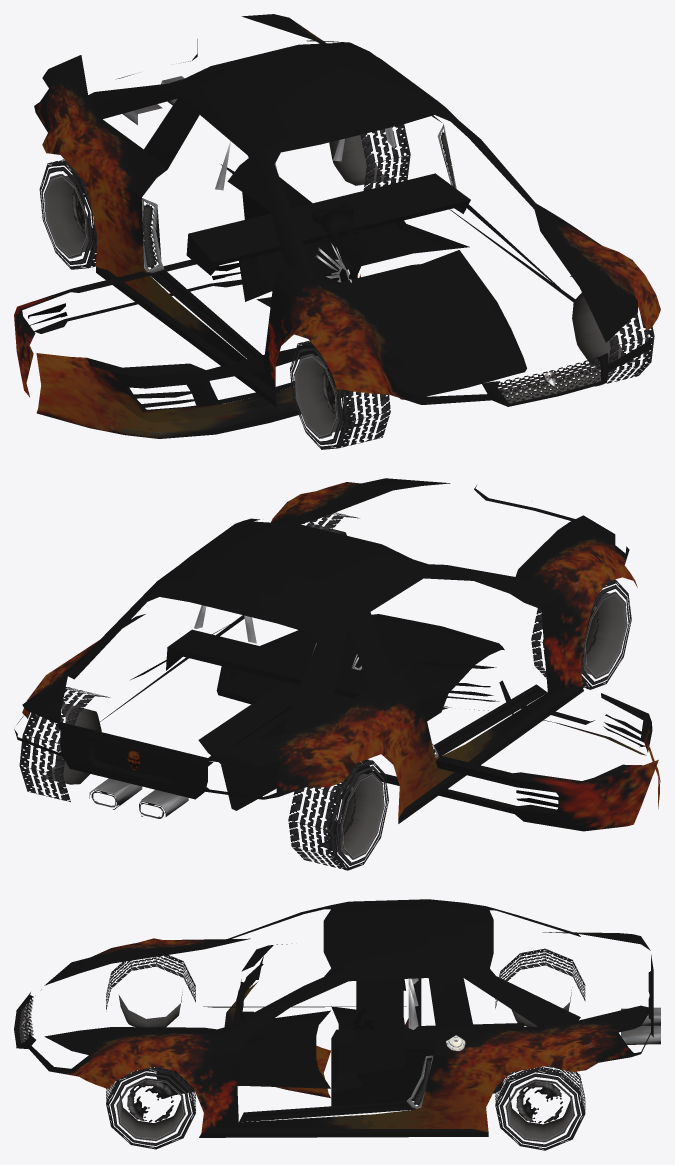
The model's file is car-CUPE_Car10.glb.
The picture shows the model from 3 angles, top to bottom: view 1: azimuth 30°, elevation 25°; view 2: azimuth 150°, elevation 25°; view 3: azimuth 270°, elevation 25°; orthographic projection. The views are drawn at different scales.
Parts seen in each view (by area): view 1: CUPE_Car10; view 2: CUPE_Car10; view 3: CUPE_Car10.
Boxes of the visible parts, x1,y1,x2,y2 form: CUPE_Car10: [14, 14, 660, 449]; CUPE_Car10: [14, 478, 660, 870]; CUPE_Car10: [14, 899, 660, 1150].
Bounding box in the file's own units: 3.26 × 1.45 × 4.74.
16 materials, 16 textured.
